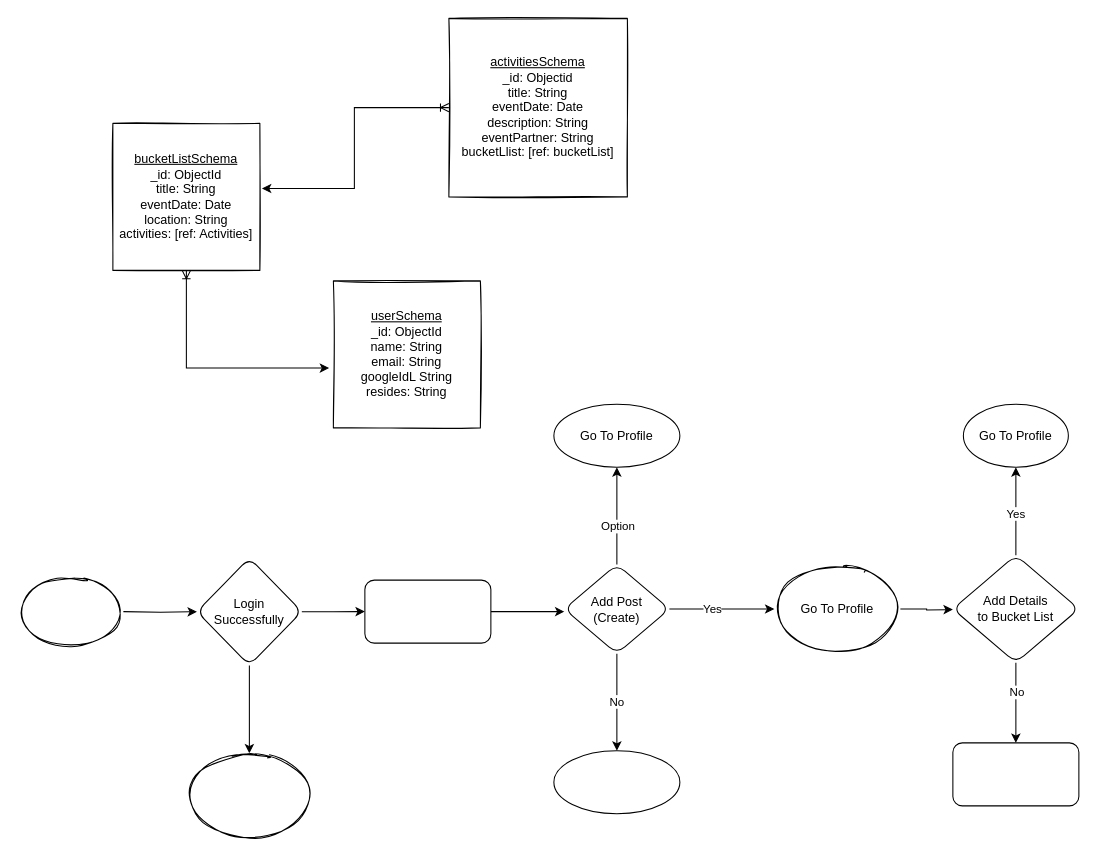
The diagram is 1097 pixels wide and 856 high, and some of its shapes have lost their labels. Each missing label, with the centre of its shape:
Brose Feed: [616,782]
Open App: [70,611]
See Home Feed: [1015,774]
See Home Feed (Index): [427,611]
Try Again Through Google: [248,794]
